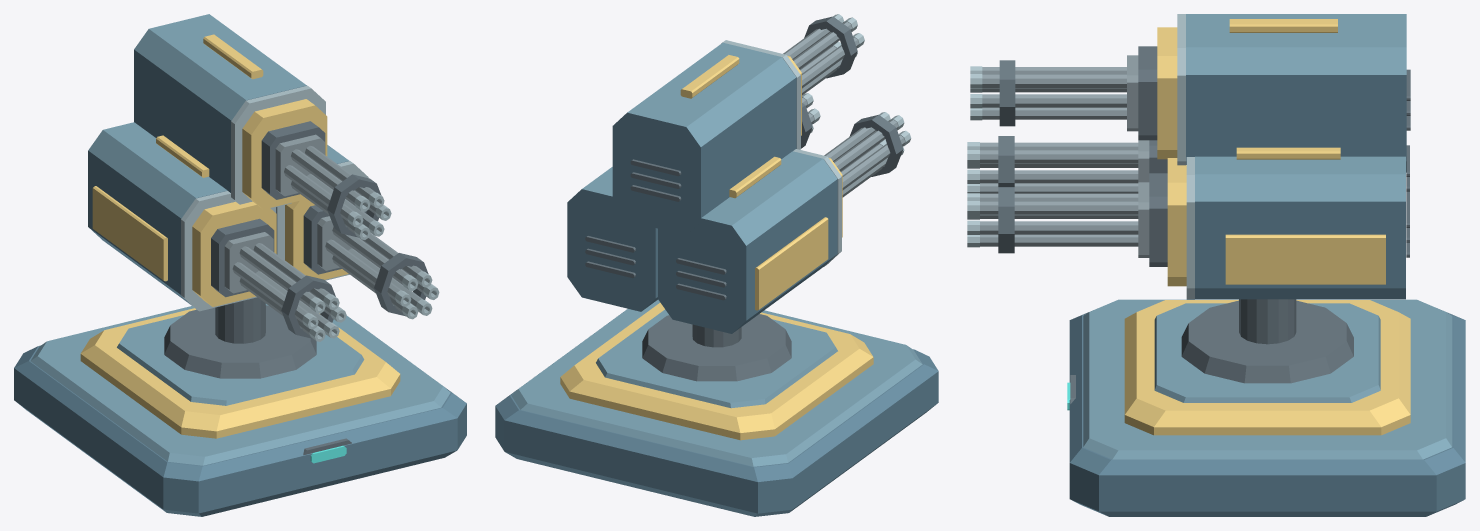
3 renders of one model, left to right at view 1: azimuth 30°, elevation 25°; view 2: azimuth 150°, elevation 25°; view 3: azimuth 270°, elevation 25°, orthographic. The views are drawn at different scales.
Visible parts, largest first — view 1: MachineGunTurret_Base, Turret, GatlingTubeLeft, GatlingTubeCenter, GatlingTubeRight; view 2: MachineGunTurret_Base, Turret, GatlingTubeLeft, GatlingTubeCenter, GatlingTubeRight; view 3: MachineGunTurret_Base, Turret, GatlingTubeRight, GatlingTubeLeft, GatlingTubeCenter.
Part boxes in pixels (x1=…): MachineGunTurret_Base: x1=14, y1=297, x2=466, y2=516; Turret: x1=88, y1=14, x2=368, y2=311; GatlingTubeLeft: x1=232, y1=243, x2=346, y2=341; GatlingTubeCenter: x1=284, y1=146, x2=391, y2=239; GatlingTubeRight: x1=325, y1=226, x2=439, y2=319; MachineGunTurret_Base: x1=495, y1=299, x2=938, y2=516; Turret: x1=567, y1=40, x2=842, y2=333; GatlingTubeLeft: x1=824, y1=112, x2=911, y2=197; GatlingTubeCenter: x1=783, y1=14, x2=864, y2=95; GatlingTubeRight: x1=801, y1=93, x2=820, y2=148; MachineGunTurret_Base: x1=1067, y1=299, x2=1465, y2=516; Turret: x1=1127, y1=14, x2=1410, y2=299; GatlingTubeRight: x1=967, y1=187, x2=1138, y2=253; GatlingTubeLeft: x1=967, y1=136, x2=1138, y2=193; GatlingTubeCenter: x1=970, y1=60, x2=1126, y2=126.
Bounding box in the file's own units: 2.17 × 2.52 × 2.74.
